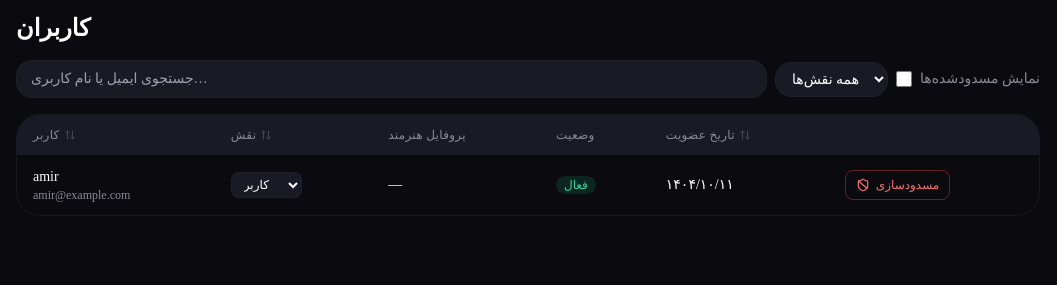
Test case: AdminUsersPage › bans an active user and shows a confirmation message
What coordinates should you click on to do the following:
click the button "مسدودسازی"
I would click on:
 (898, 185)
Its box is [845,170,950,200].
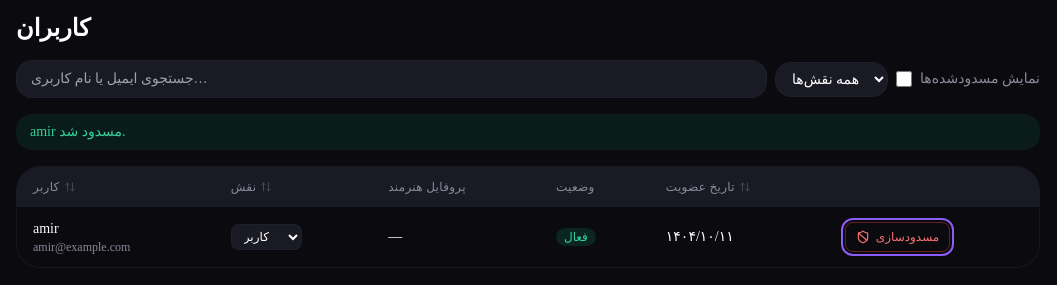
Result: the message reads "amir مسدود شد." at [30,124,126,139]
